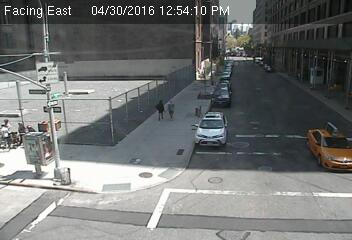neg: (119, 160, 138, 186), (70, 83, 89, 108), (324, 137, 342, 161), (324, 83, 339, 102), (190, 104, 204, 122), (173, 168, 186, 185)
pos: (151, 98, 170, 123), (161, 97, 180, 121), (11, 119, 29, 143), (23, 120, 36, 137)
